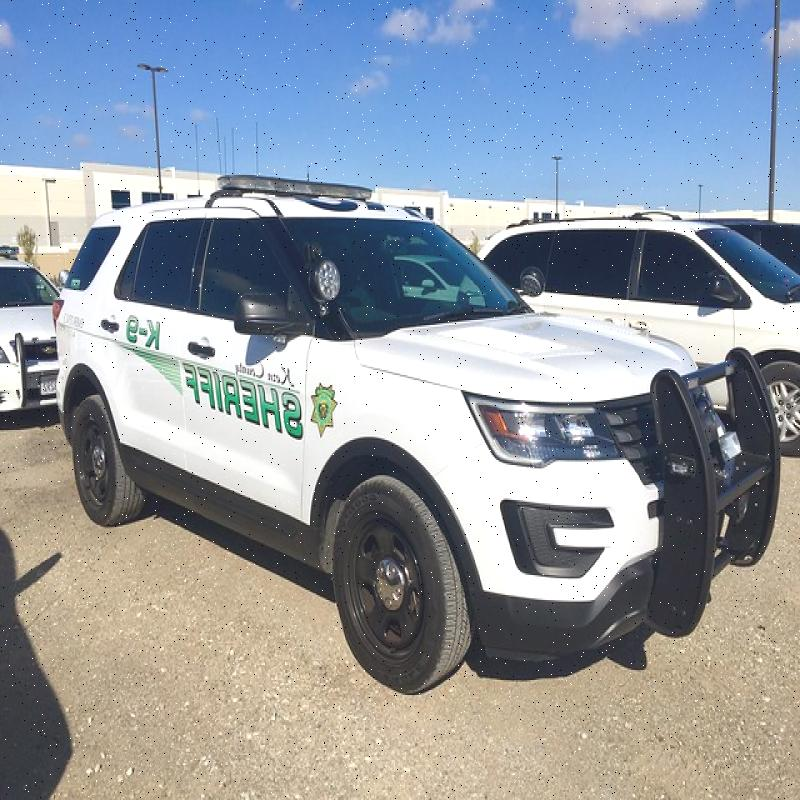AmbulanceSiren: (210, 157, 394, 202)
